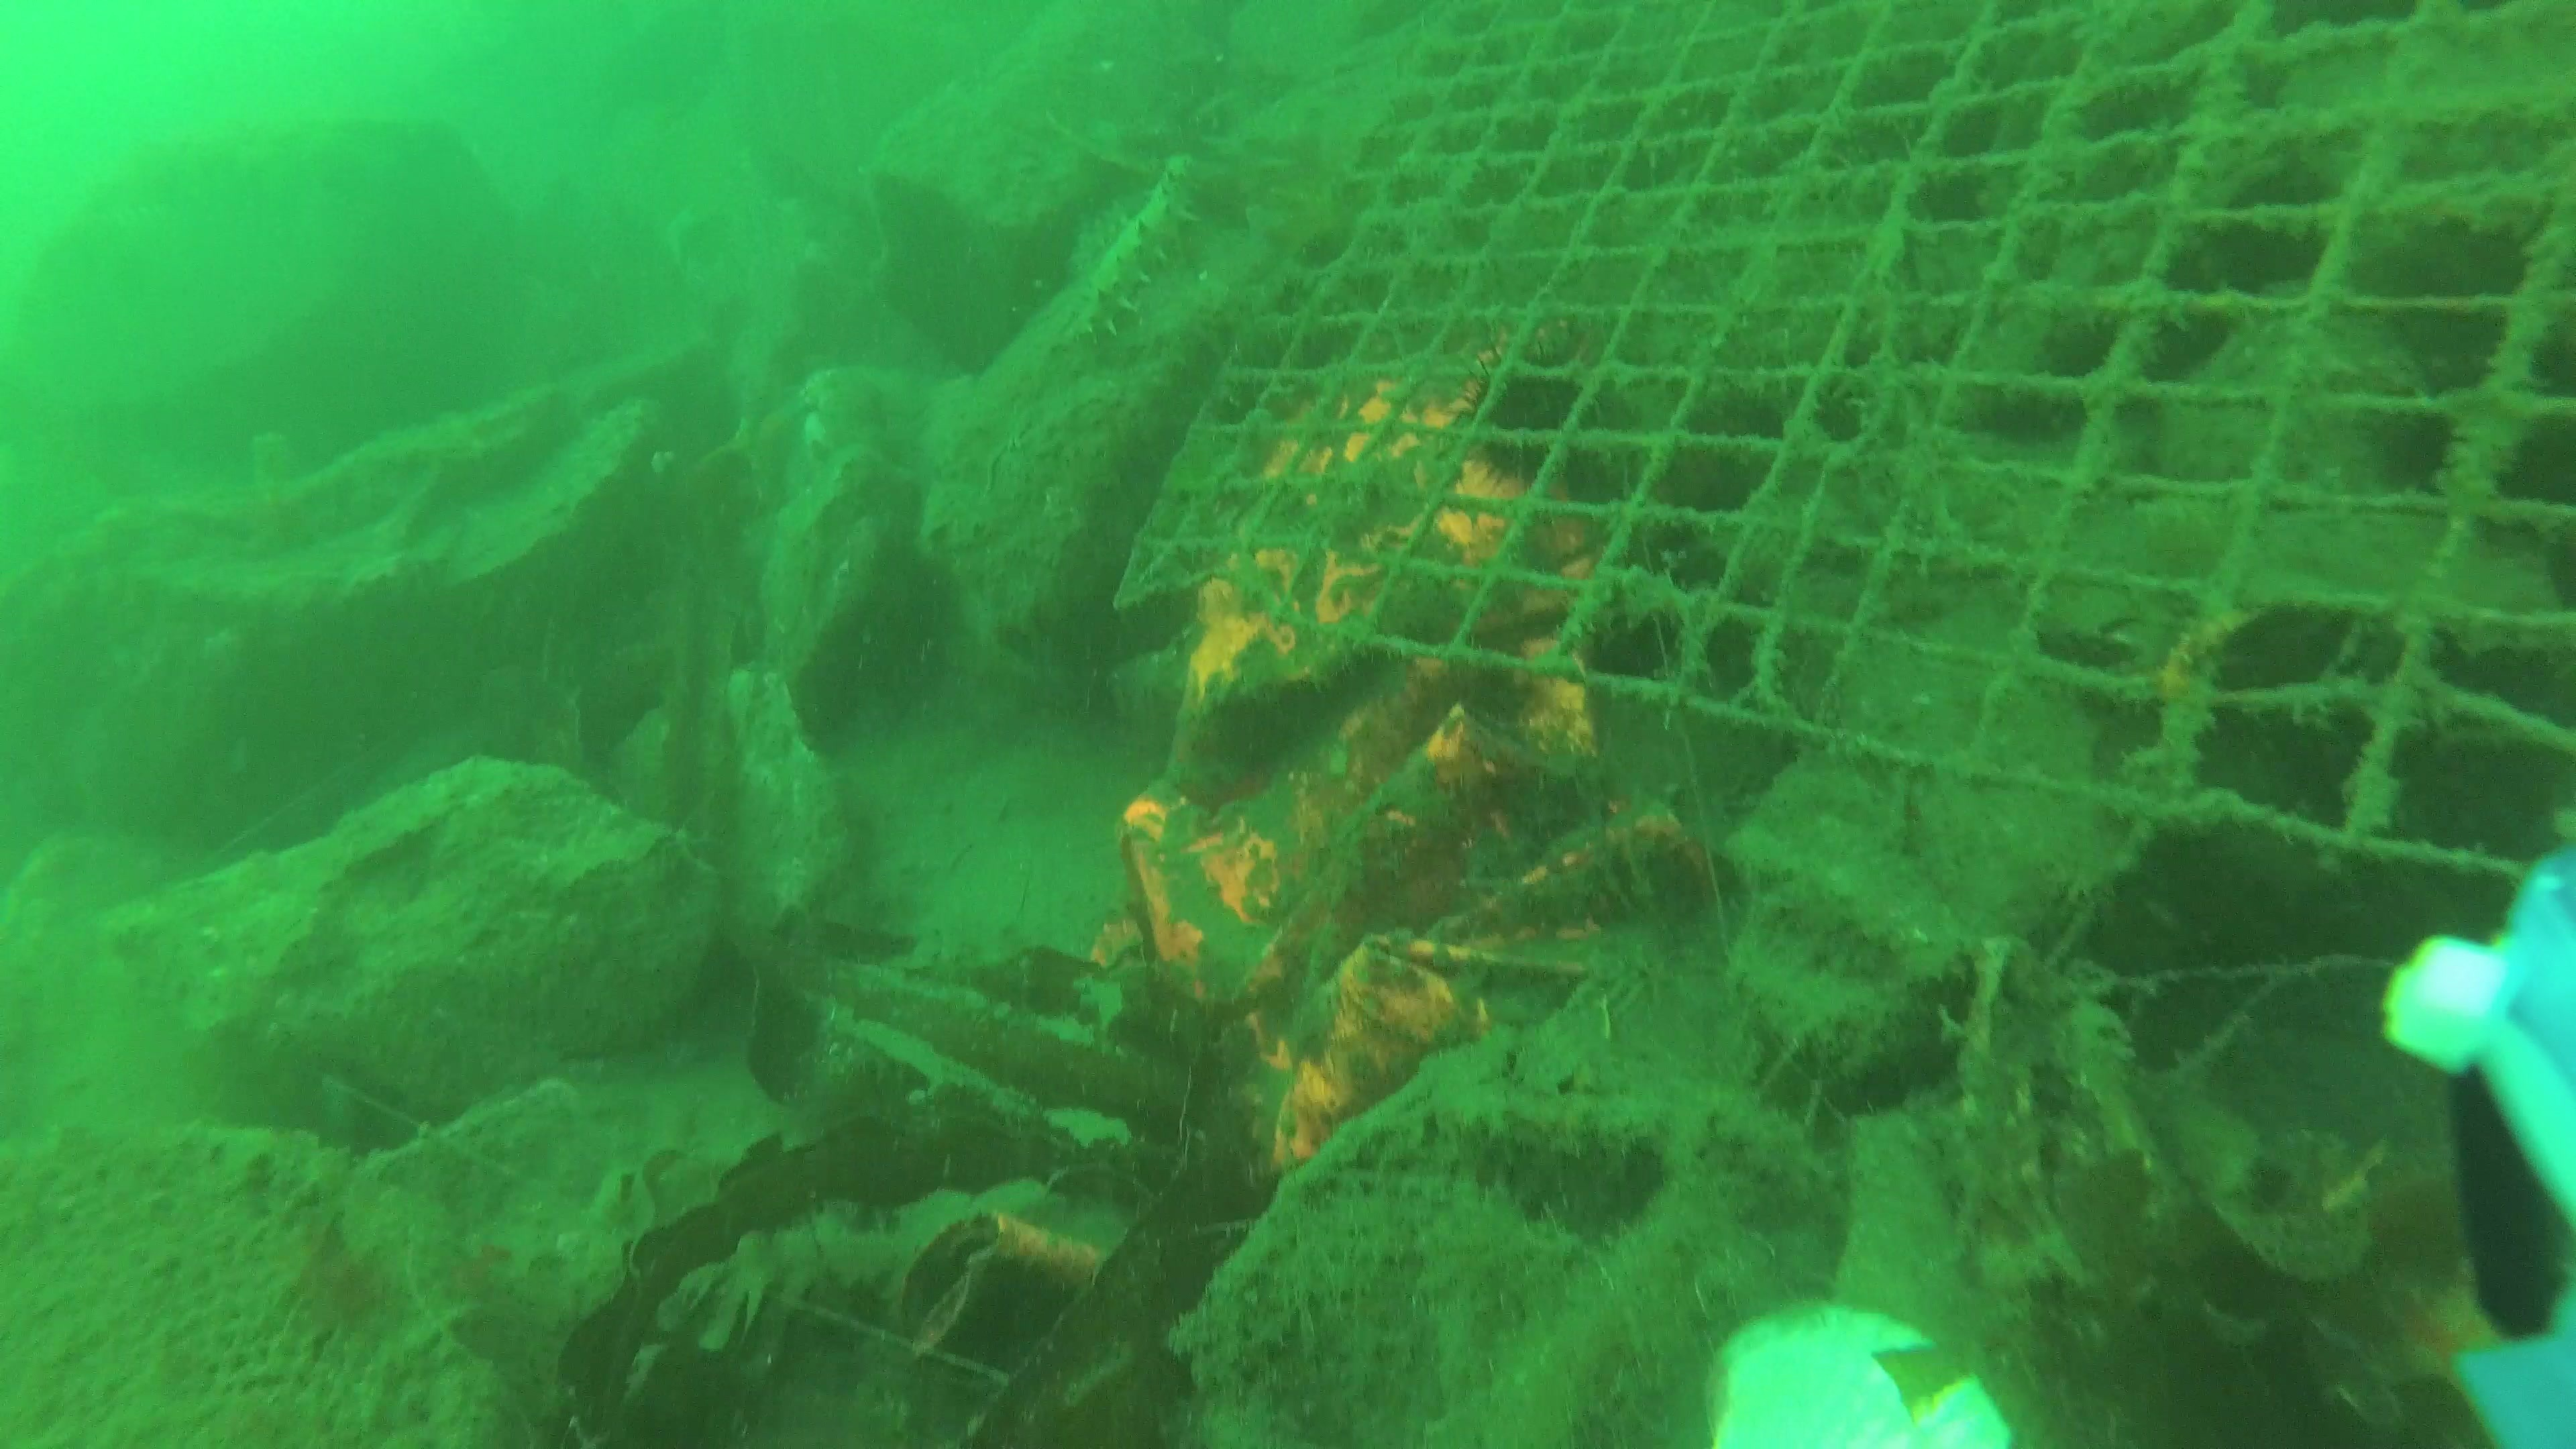echinus: (1449, 345, 1626, 499)
holothurian: (1077, 156, 1198, 347)
